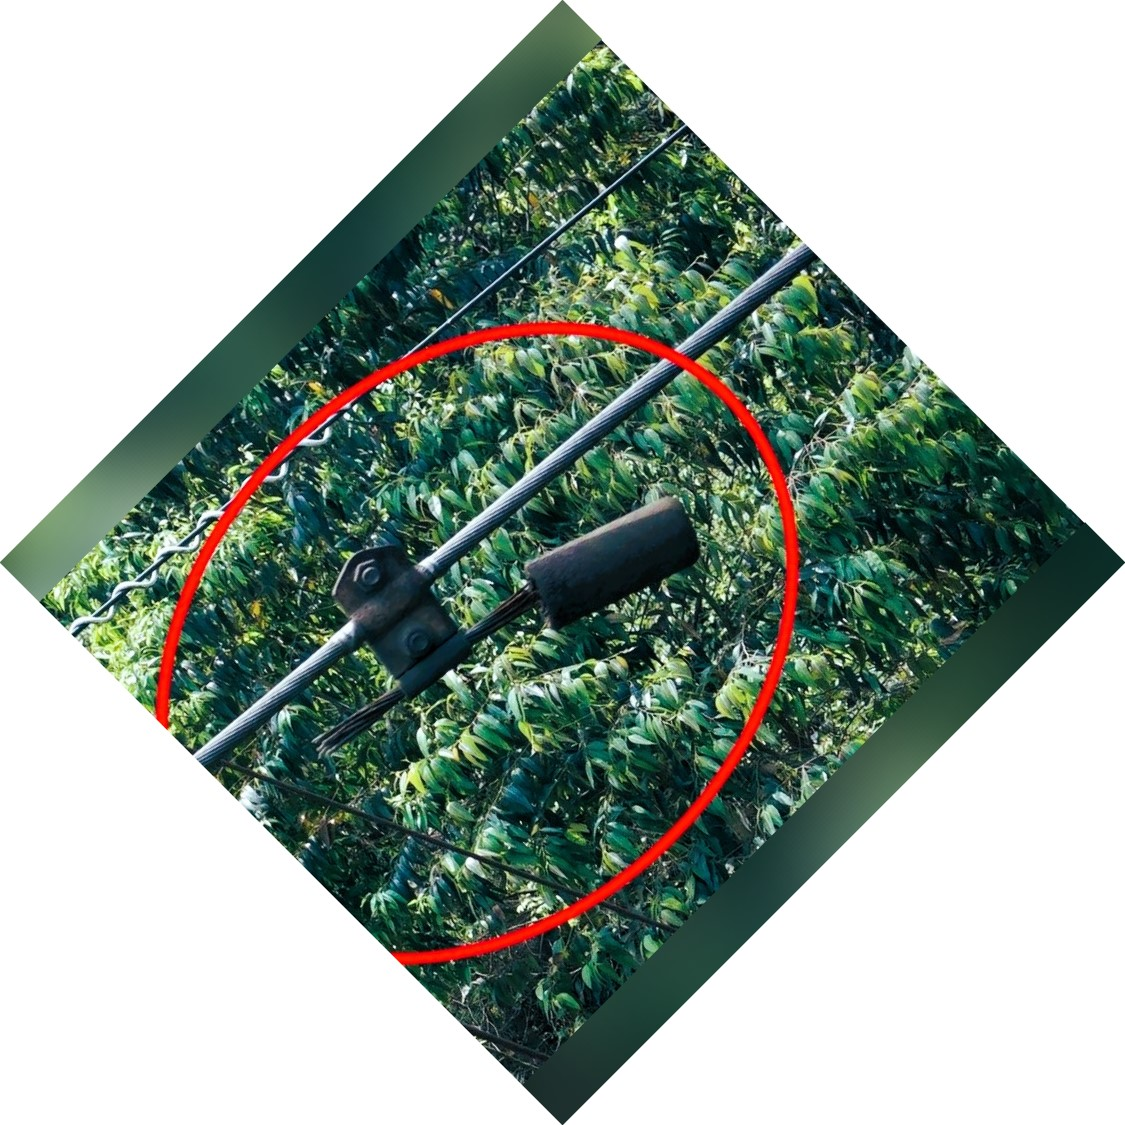Damage of shockproof hammer: (295, 468, 707, 762)
